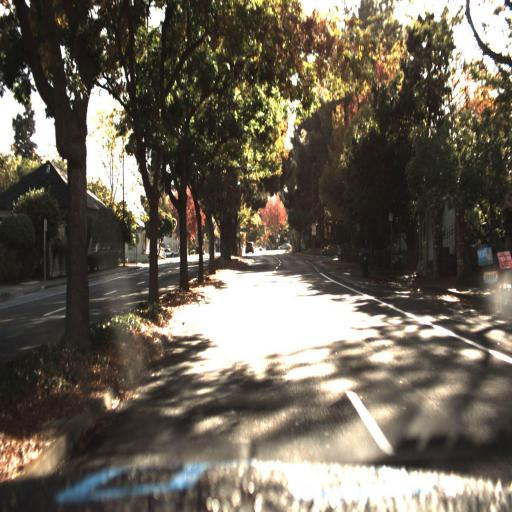car: (156, 245, 178, 264), (161, 244, 180, 261), (244, 238, 254, 258), (276, 240, 292, 251)
trafficLight-Red: (280, 224, 289, 240)
